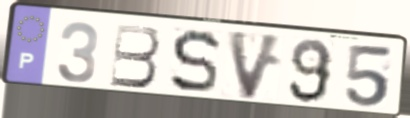3: (56, 20, 101, 84)
5: (341, 43, 394, 110)
9: (287, 37, 333, 106)
B: (108, 22, 162, 90)
S: (168, 28, 223, 96)
V: (226, 28, 287, 103)
